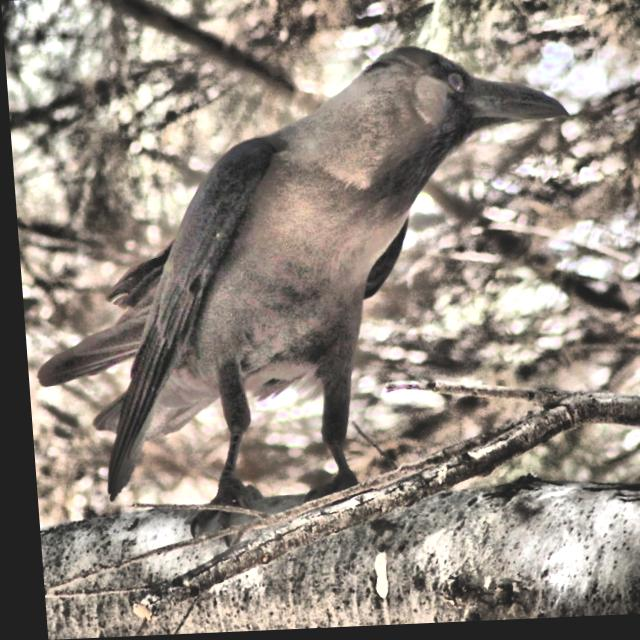crow: (11, 36, 594, 556)
